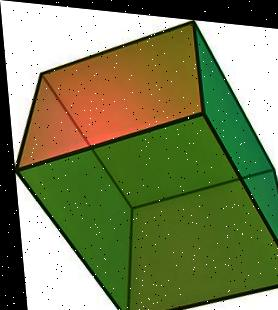cube: (0, 1, 278, 310)
